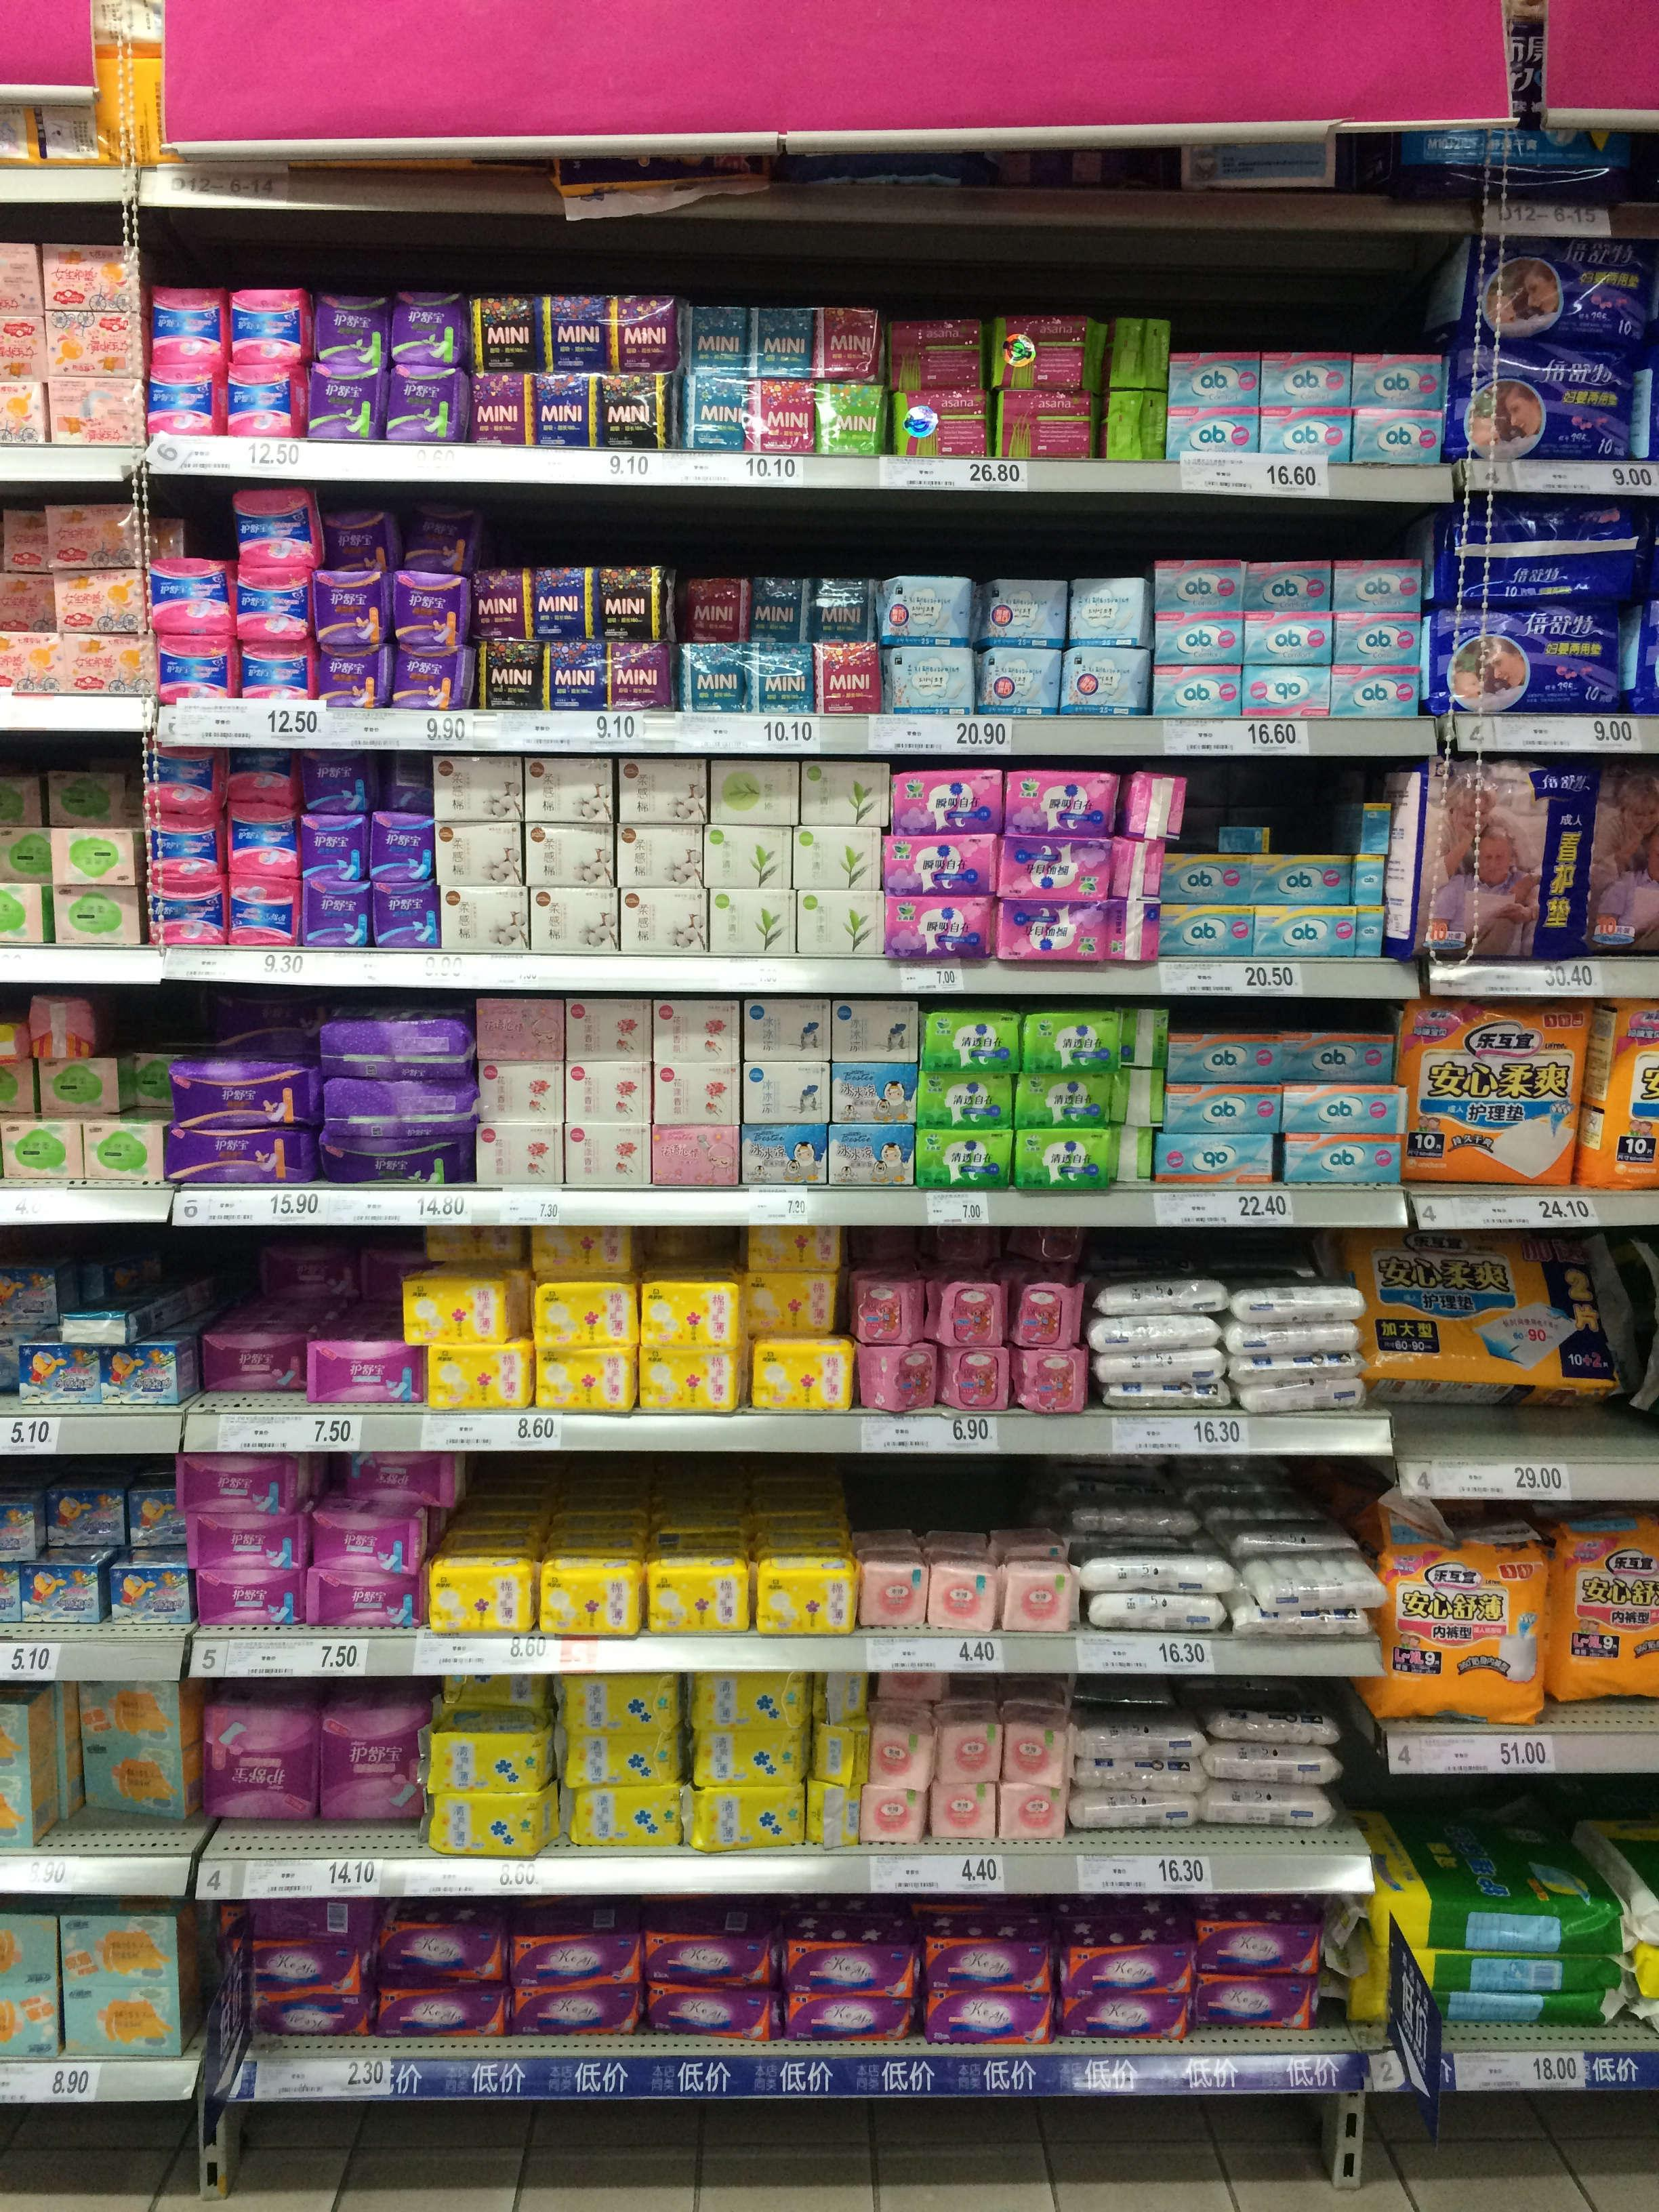misalignment: (1108, 1007, 1169, 1183), (1115, 766, 1168, 958), (1110, 320, 1168, 465), (64, 1273, 166, 1346), (21, 986, 105, 1059), (1213, 810, 1274, 855)
